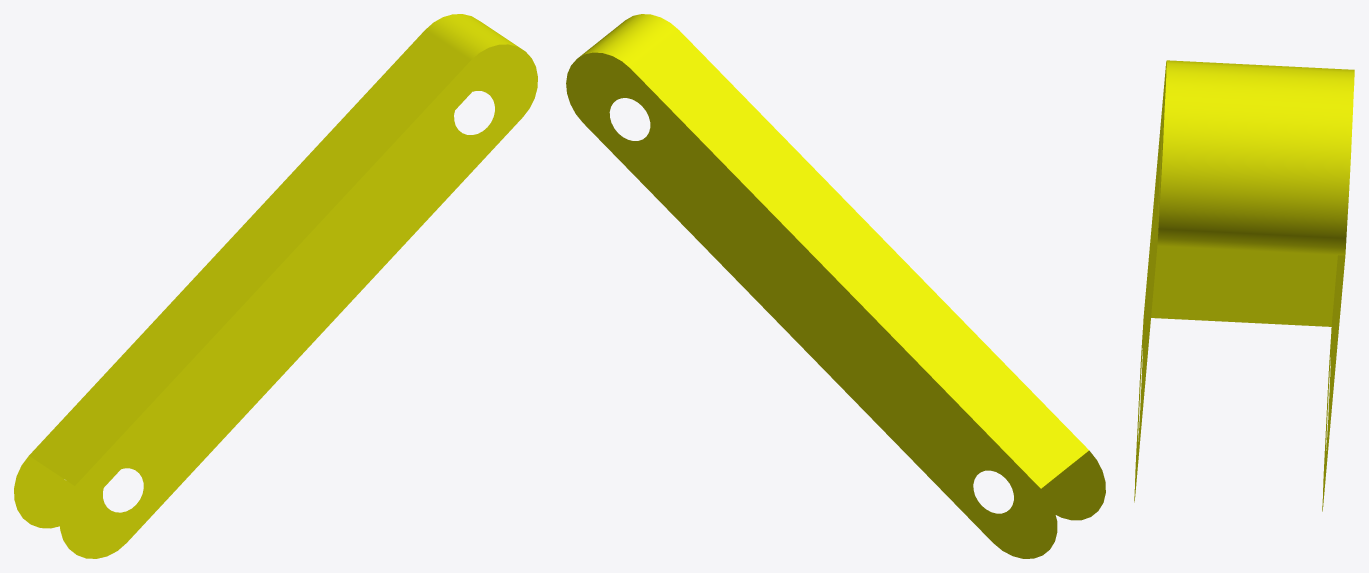
File: body_16.obj
3 views of the same model, side by side, from view 1: azimuth 30°, elevation 25°; view 2: azimuth 150°, elevation 25°; view 3: azimuth 270°, elevation 25° (orthographic). The views are drawn at different scales.
Visible parts, largest first — view 1: Body_24; view 2: Body_24; view 3: Body_24.
Boxes of the visible parts, x1=… form: Body_24: x1=14, y1=14, x2=537, y2=558; Body_24: x1=566, y1=14, x2=1105, y2=558; Body_24: x1=1134, y1=60, x2=1354, y2=511.
Size of the model in its own units: 0.0475 by 0.0387 by 0.00936.
